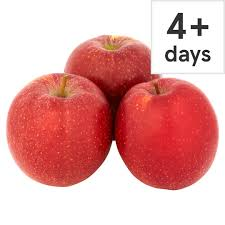apple: (116, 75, 224, 191), (10, 79, 113, 187), (65, 27, 159, 102)
